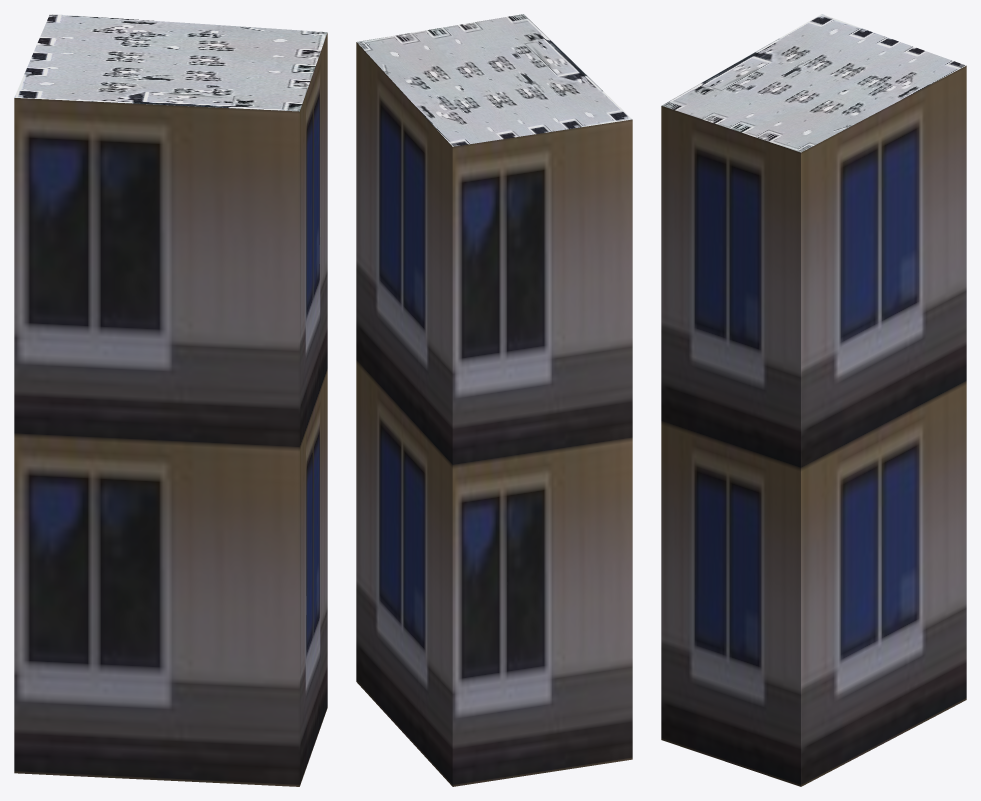
The model's file is ResTex__865.fbx.
3 views of the same model, side by side, from view 1: azimuth 30°, elevation 25°; view 2: azimuth 150°, elevation 25°; view 3: azimuth 270°, elevation 25° (orthographic). The views are drawn at different scales.
Parts seen in each view (by area): view 1: CityEngineMaterial_5_m, CityEngineMaterial_m; view 2: CityEngineMaterial_5_m, CityEngineMaterial_m; view 3: CityEngineMaterial_5_m, CityEngineMaterial_m.
Part boxes in pixels (x1,y1,x2,y2): CityEngineMaterial_5_m: (14, 33, 327, 786); CityEngineMaterial_m: (14, 14, 327, 111); CityEngineMaterial_5_m: (356, 42, 632, 786); CityEngineMaterial_m: (357, 14, 632, 146); CityEngineMaterial_5_m: (661, 65, 966, 786); CityEngineMaterial_m: (662, 14, 965, 152).
Bounding box in the file's own units: 2.81 × 6 × 2.61.
Materials: 2 (2 with a texture image).
